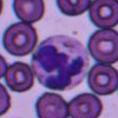N: (32, 34, 89, 91)
